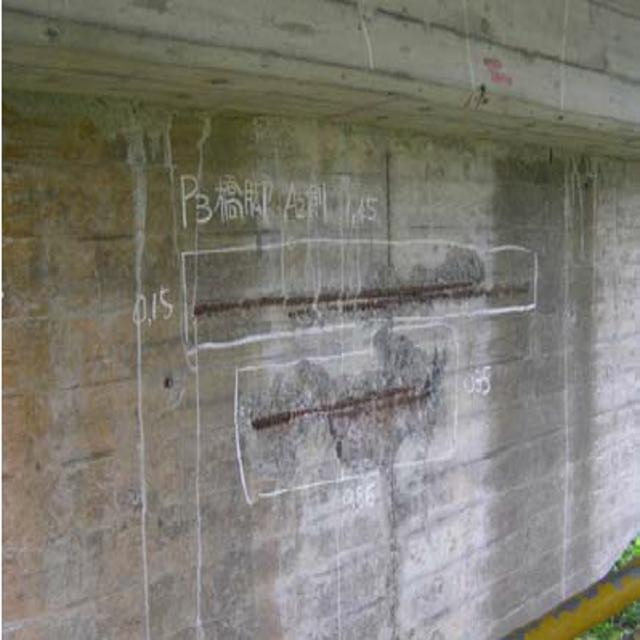spalling: (223, 353, 474, 497), (196, 271, 548, 336)
